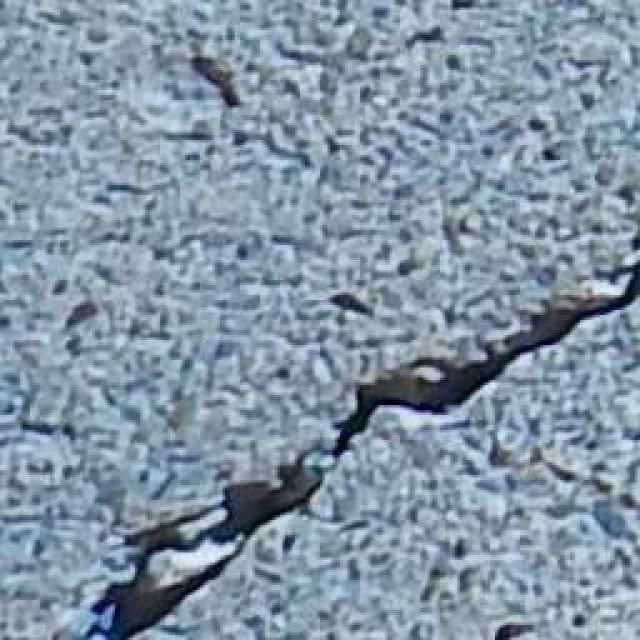concrete-crack: (44, 257, 640, 640)
